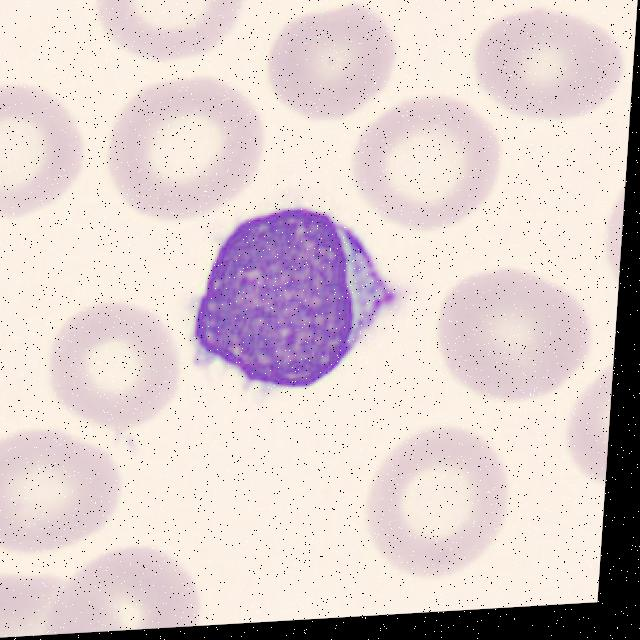lymphocyte: (195, 196, 398, 398)
rbc: (433, 258, 595, 412), (106, 74, 270, 213), (369, 425, 511, 584), (352, 92, 508, 233), (474, 2, 631, 118), (46, 302, 186, 430), (261, 2, 401, 121), (0, 421, 122, 550), (52, 539, 211, 634), (0, 79, 83, 217), (92, 0, 244, 61), (557, 356, 614, 496), (0, 568, 94, 640), (600, 183, 625, 311)
